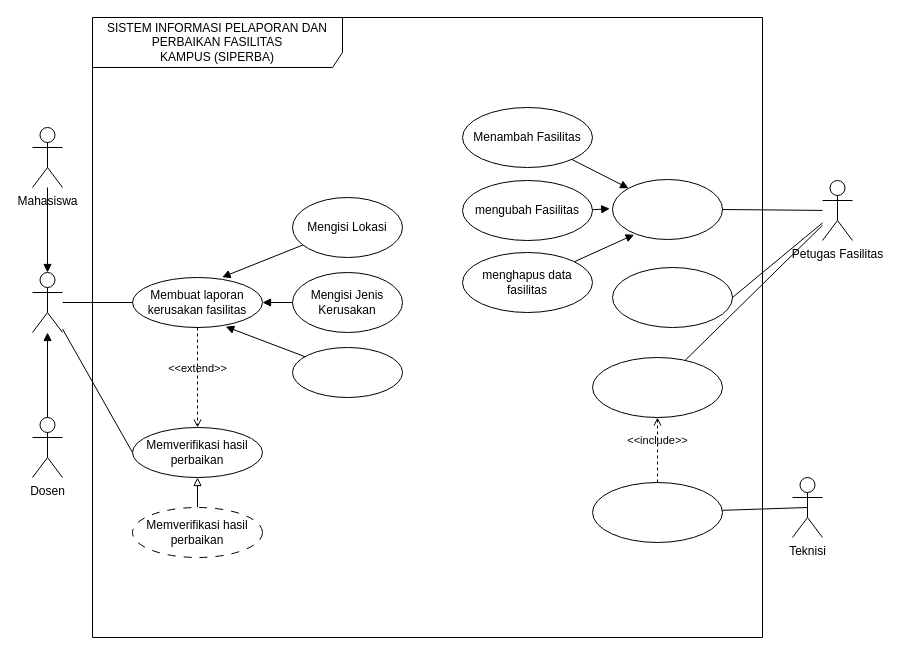
The diagram is 900 pixels wide and 655 high, and some of its shapes have lost their labels. Here are the shapes that lost their labels. From the top down, the centre of each, then its label:
At point (667, 209): "Mengedit data fasilitas".
At point (47, 302): "Pelapor".
At point (672, 297): "Melihat laporan perbaikan".
At point (347, 372): "Mengisi Deskripsi".
At point (657, 387): "Menugaskan teknisi".
At point (657, 512): "Mencatat Perbaikan yang dilakukan".
